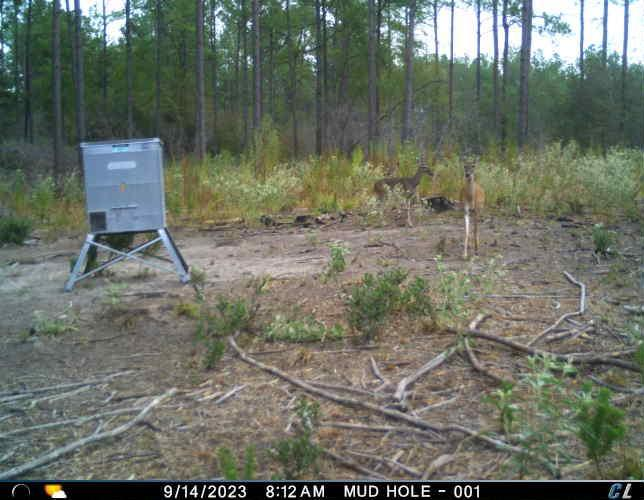Deer: (371, 153, 437, 232), (458, 152, 486, 262)
